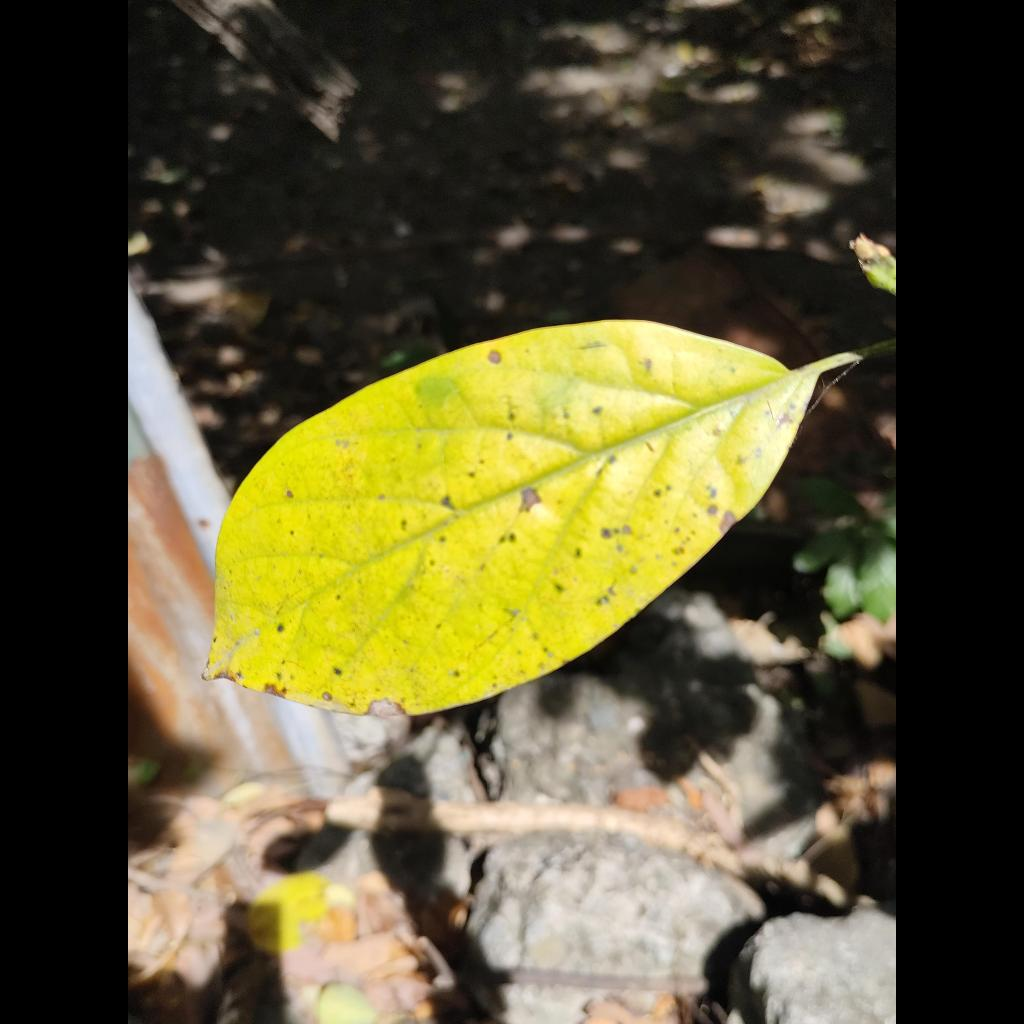nutrient_deficiency: (205, 321, 858, 716)
